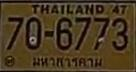0: (25, 16, 41, 49)
3: (111, 17, 127, 50)
6: (56, 17, 71, 49)
7: (7, 16, 23, 49), (93, 17, 109, 49), (75, 16, 90, 49)
MKM: (30, 54, 105, 70)
